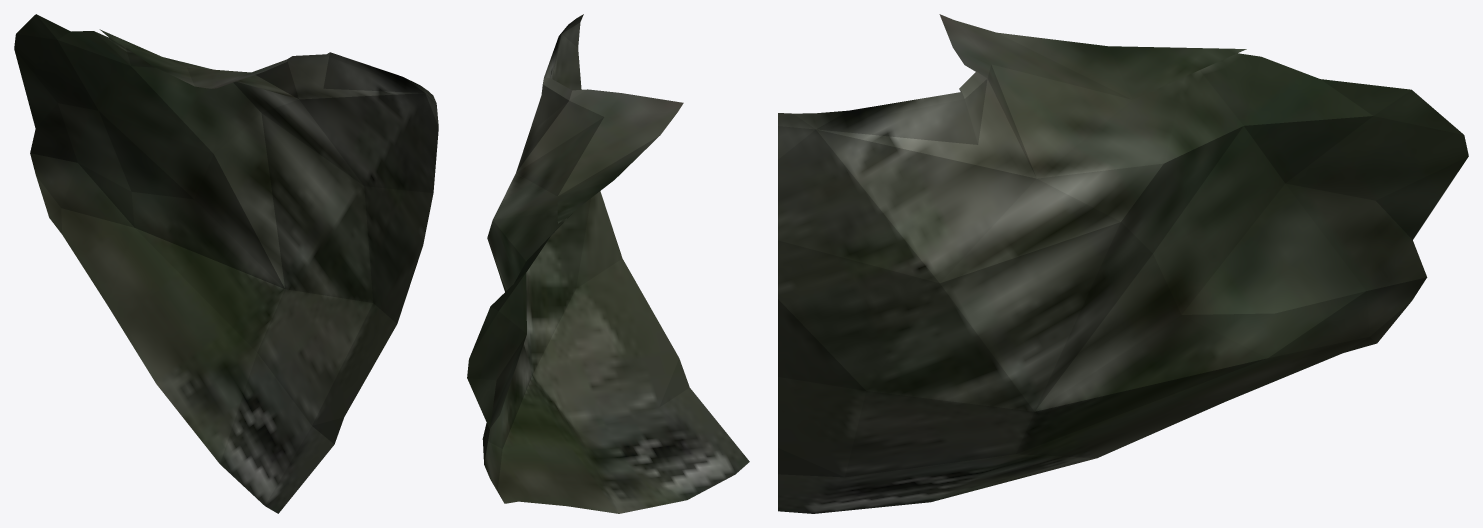
3 views of the same model, side by side, from view 1: azimuth 30°, elevation 25°; view 2: azimuth 150°, elevation 25°; view 3: azimuth 270°, elevation 25° (orthographic). The views are drawn at different scales.
Size of the model in its own units: 0.22 by 0.4984 by 0.624.
1 material, 1 textured.
